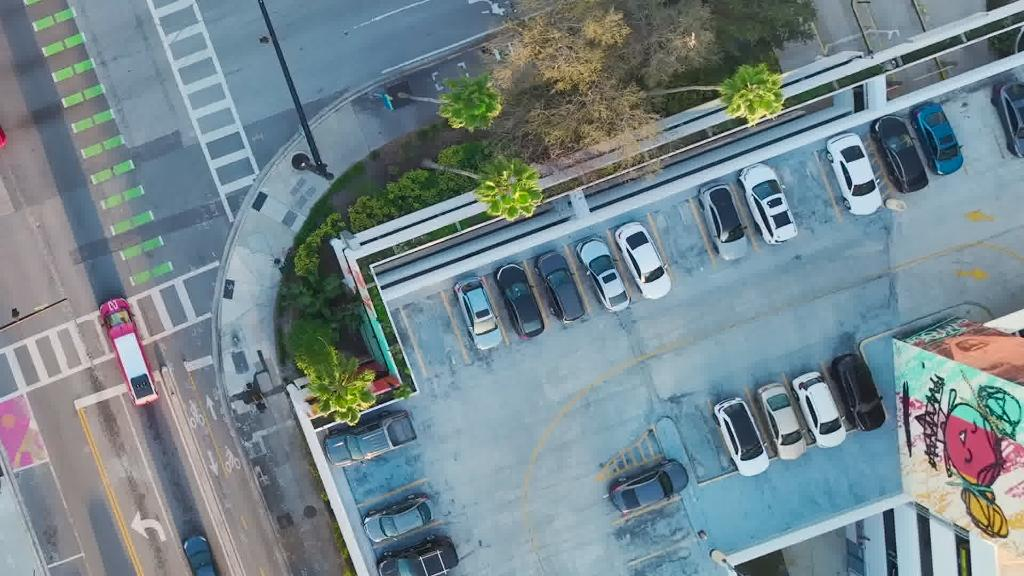cars: (99, 296, 159, 406), (324, 408, 418, 466), (738, 162, 798, 244), (825, 132, 883, 216), (713, 396, 769, 478), (828, 353, 886, 432), (614, 221, 672, 299), (870, 114, 928, 192), (609, 457, 689, 512), (575, 235, 631, 312), (790, 372, 846, 448), (534, 250, 588, 326), (698, 180, 748, 260), (756, 382, 806, 460), (910, 102, 964, 174), (495, 263, 545, 339), (452, 276, 502, 350), (362, 493, 436, 541), (377, 534, 459, 576), (990, 78, 1024, 158), (182, 532, 220, 576), (0, 86, 6, 154)
